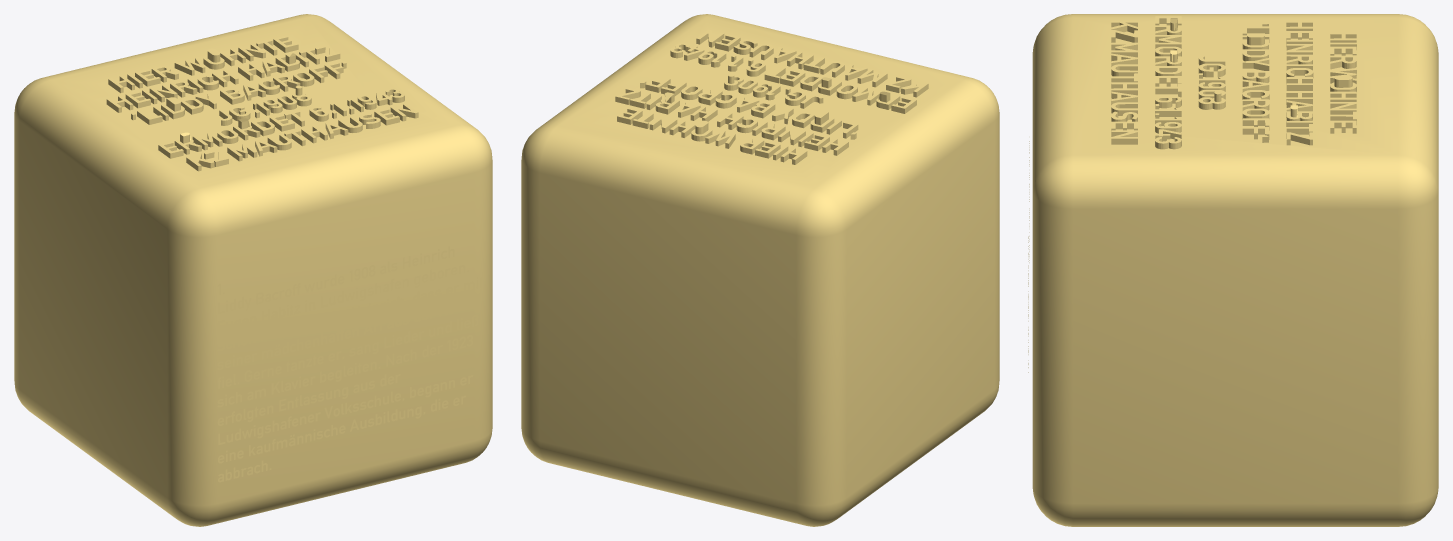
Rendered from Stolperstein12.glb.
3 views of the same model, side by side, from view 1: azimuth 30°, elevation 25°; view 2: azimuth 150°, elevation 25°; view 3: azimuth 270°, elevation 25° (orthographic). The views are drawn at different scales.
Parts seen in each view (by area): view 1: Cube, Text, Text.001; view 2: Cube, Text; view 3: Cube, Text.
Part boxes in pixels (x1,y1,x2,y2): Cube: [14, 14, 492, 526]; Text: [106, 35, 418, 171]; Text.001: [217, 246, 483, 482]; Cube: [521, 14, 999, 526]; Text: [615, 29, 928, 164]; Cube: [1032, 14, 1438, 526]; Text: [1111, 16, 1356, 149].
Size of the model in its own units: 17.96 by 18.63 by 18.15.
